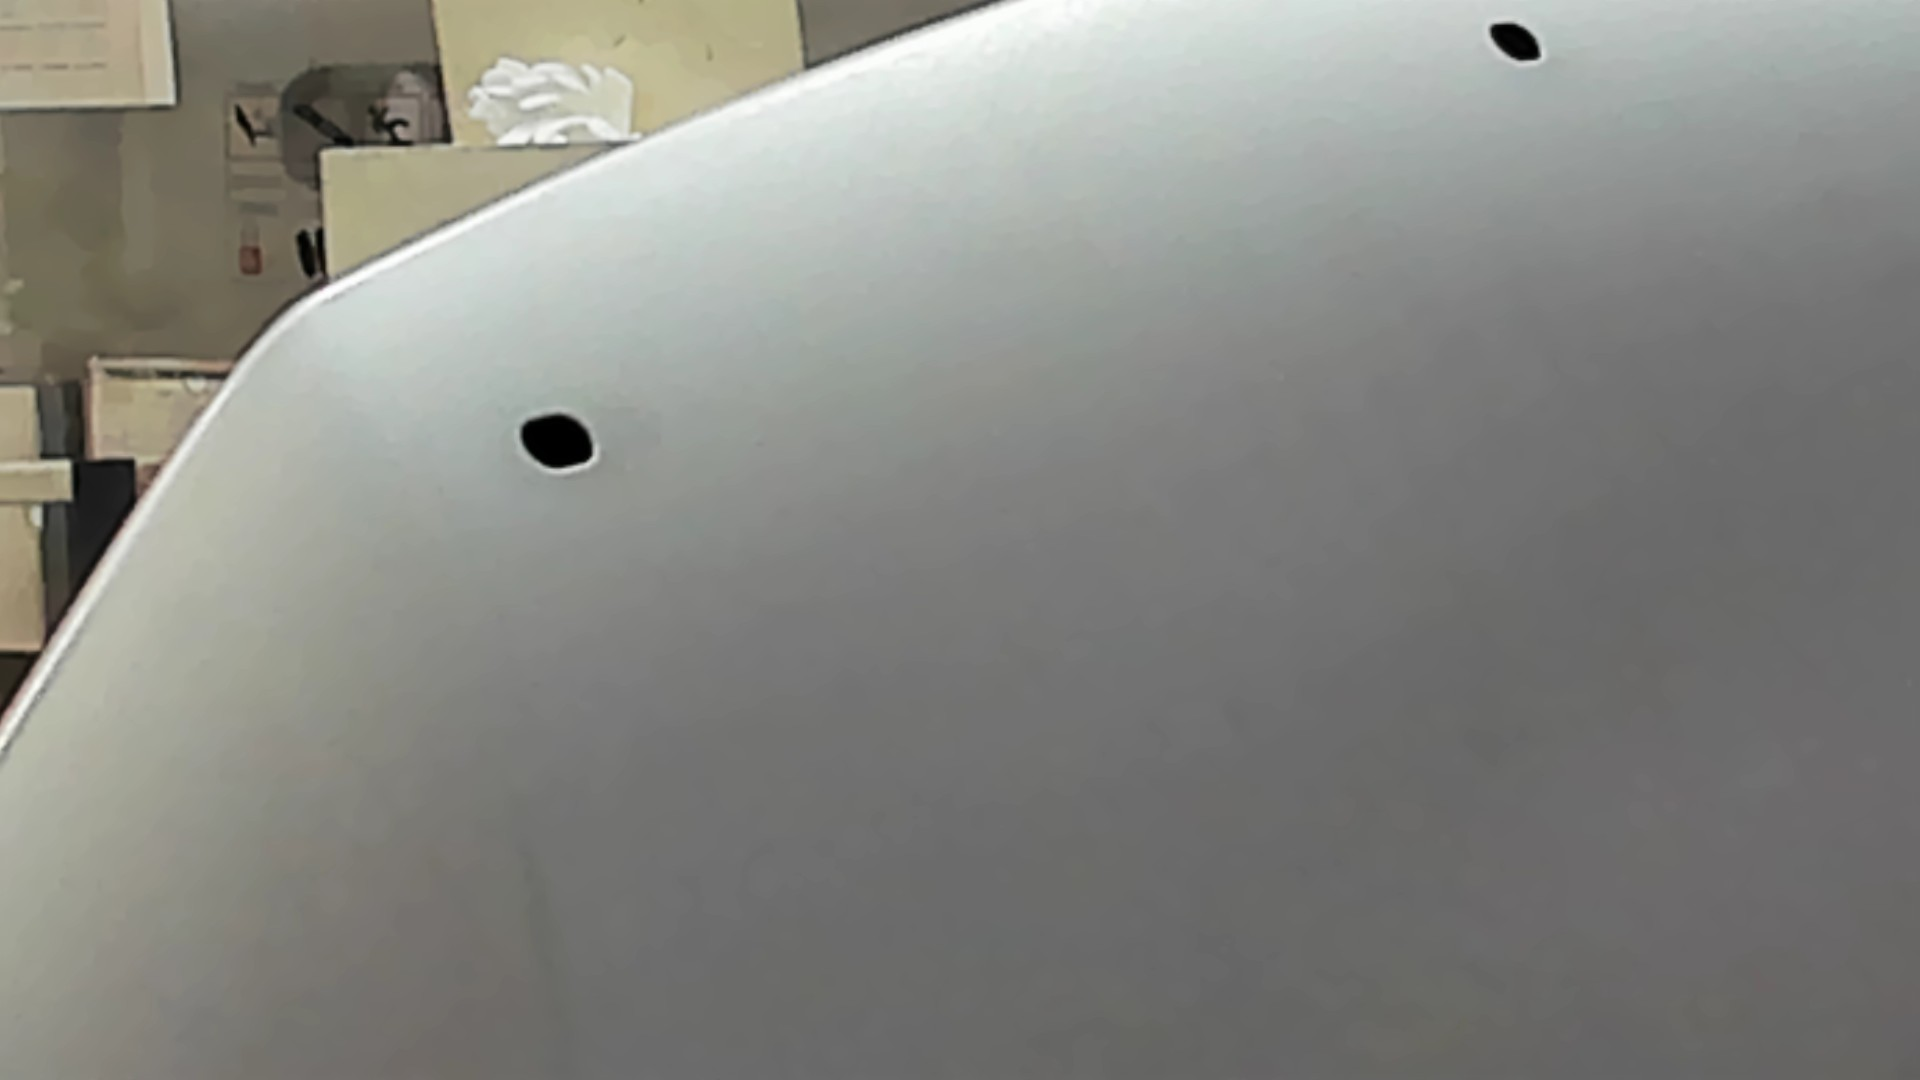Agujero: (512, 409, 609, 480), (1482, 17, 1553, 71)
